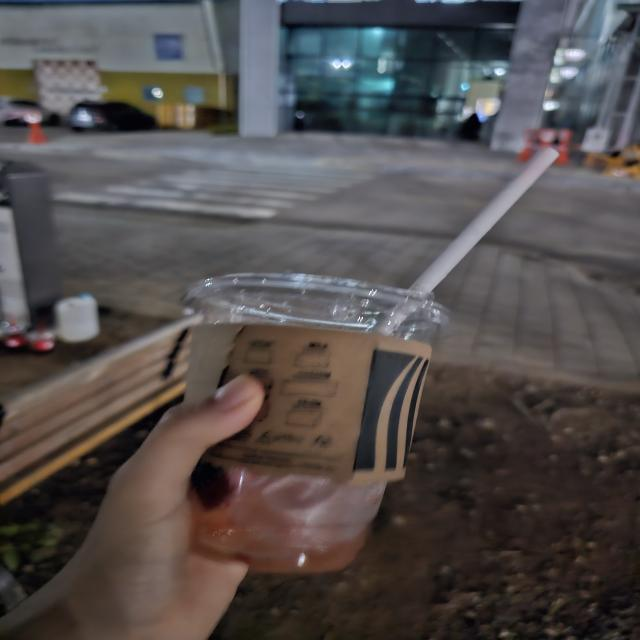cup: (166, 258, 456, 578)
